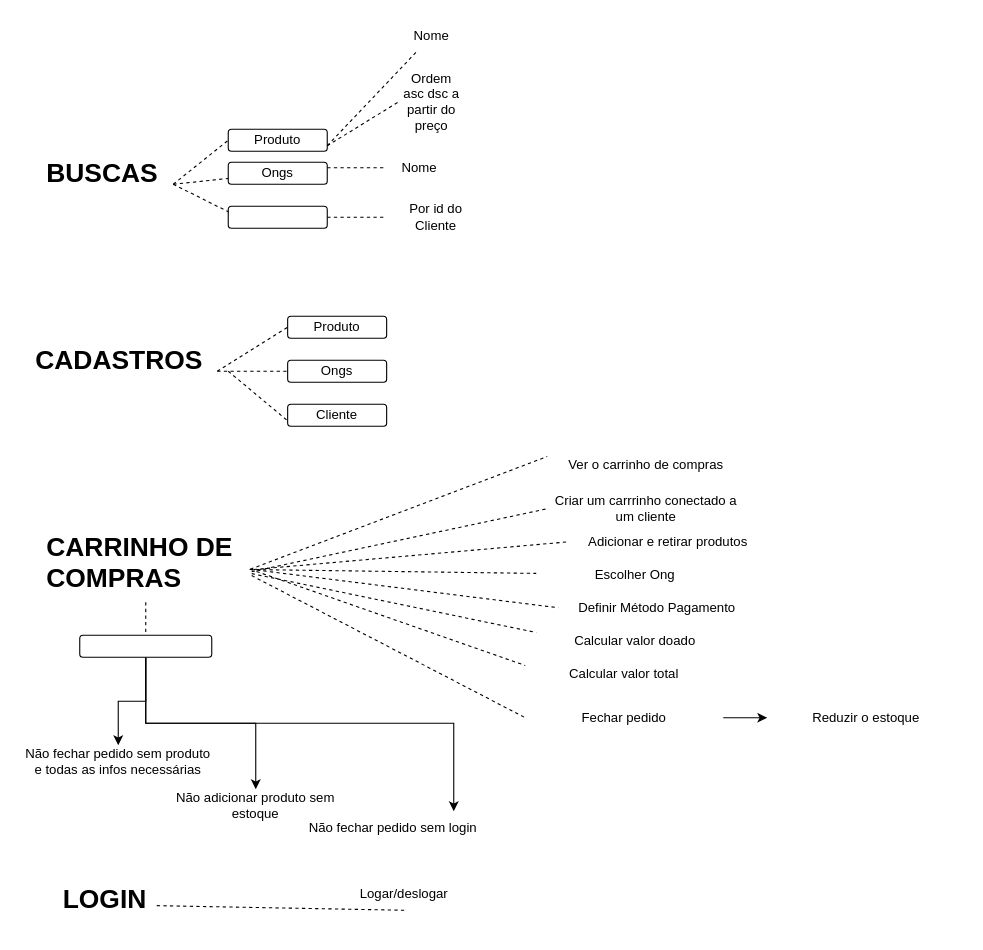
Image size: 983x950. Some labels were removed from this diagram. The box of each missing label's shape, as (x1, y1, x2, y2) in pixels:
Pedidos: (227, 205, 327, 228)
Restrições: (79, 634, 212, 657)
